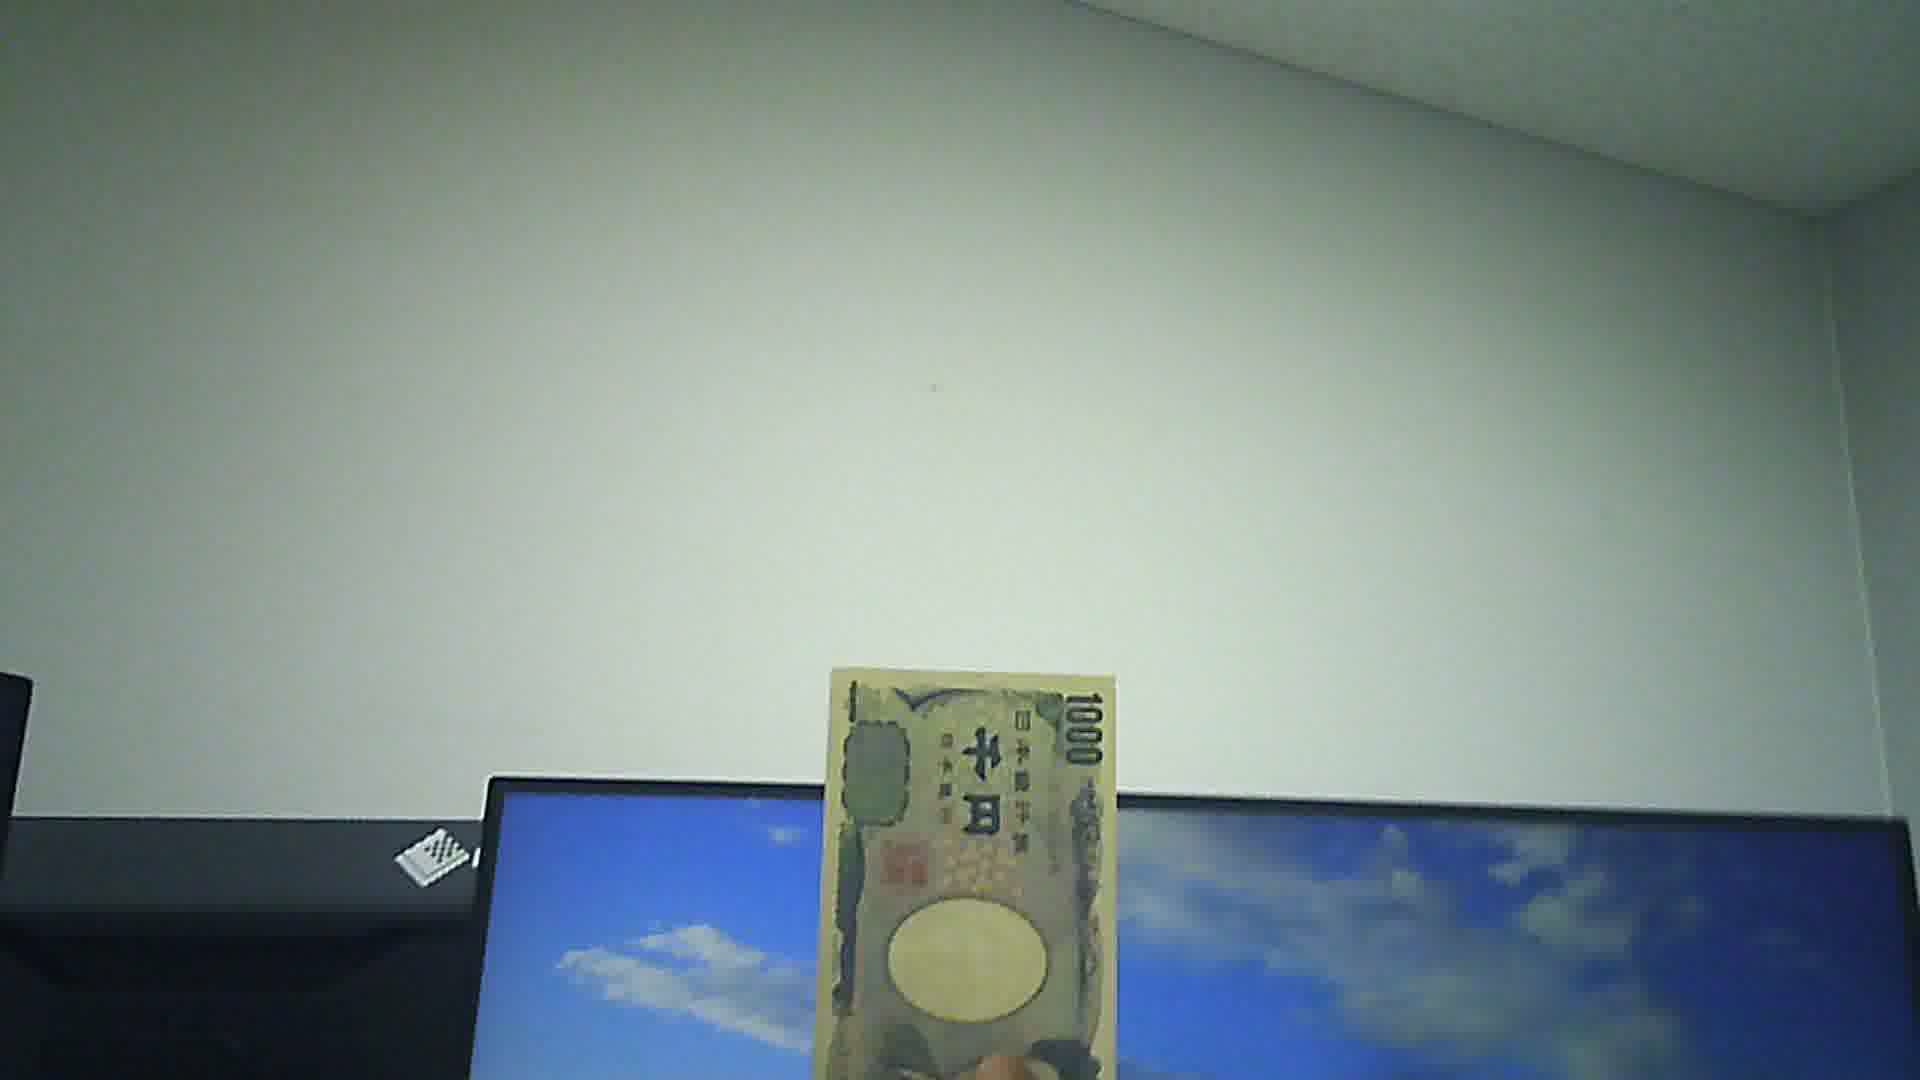1,000 Yen: (818, 641, 1125, 1079)
